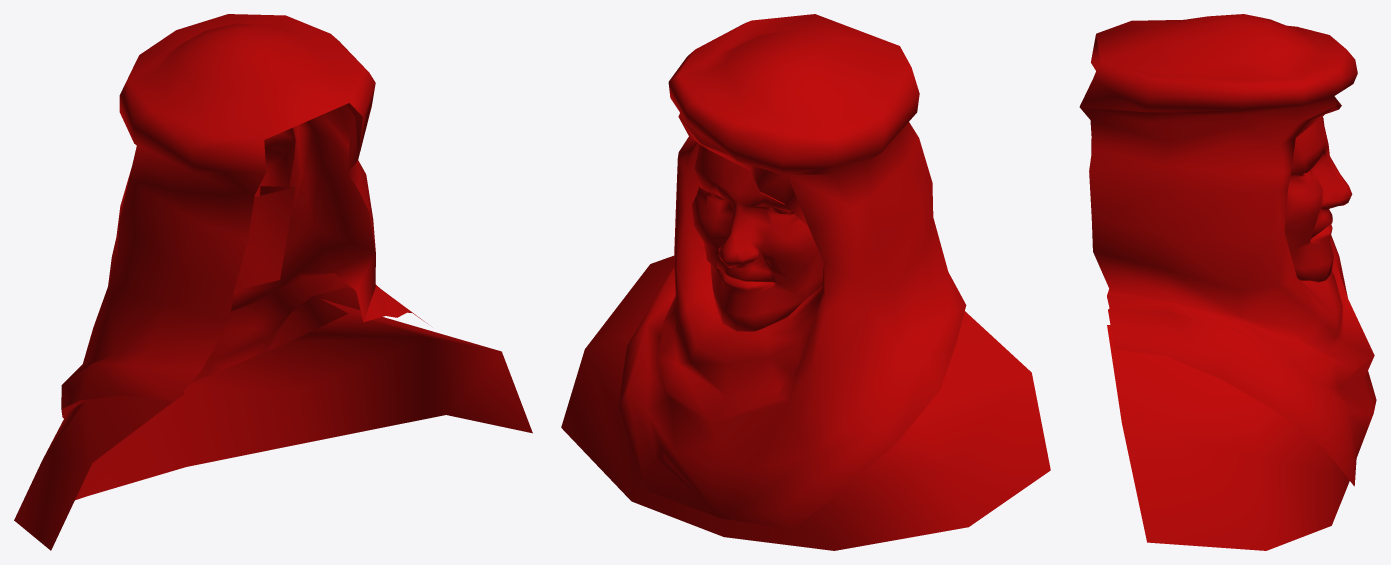
Rendered from nomad.glb.
The picture shows the model from 3 angles, left to right: view 1: azimuth 30°, elevation 25°; view 2: azimuth 150°, elevation 25°; view 3: azimuth 270°, elevation 25°; orthographic projection. The views are drawn at different scales.
Parts seen in each view (by area): view 1: MODEL_resident_colony_tier02; view 2: MODEL_resident_colony_tier02; view 3: MODEL_resident_colony_tier02.
Part boxes in pixels (box(x1,y1,x2,y2)): MODEL_resident_colony_tier02: box(14, 14, 532, 550); MODEL_resident_colony_tier02: box(561, 14, 1050, 550); MODEL_resident_colony_tier02: box(1079, 14, 1376, 550).
Bounding box in the file's own units: 4.57 × 4.29 × 2.54.
